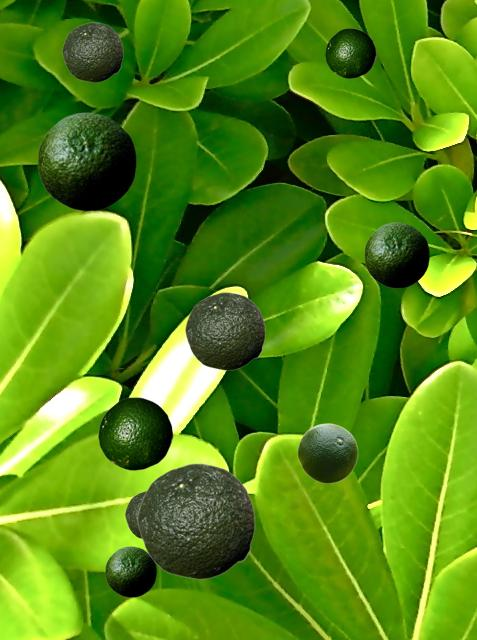calamansi: (137, 463, 254, 578), (37, 112, 135, 210), (185, 292, 264, 369), (98, 397, 172, 469), (364, 222, 428, 287), (297, 423, 357, 482), (62, 22, 122, 81), (105, 546, 155, 596), (325, 28, 375, 77), (125, 490, 145, 538)
